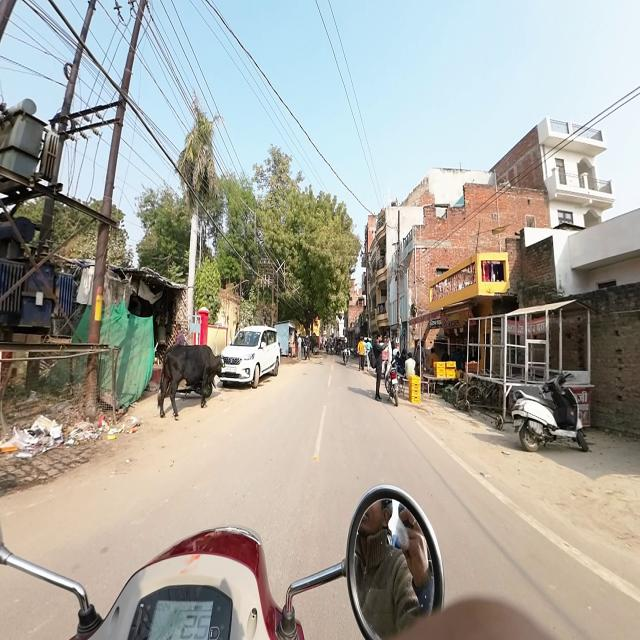Garbage: (5, 416, 63, 456), (71, 424, 97, 441)
